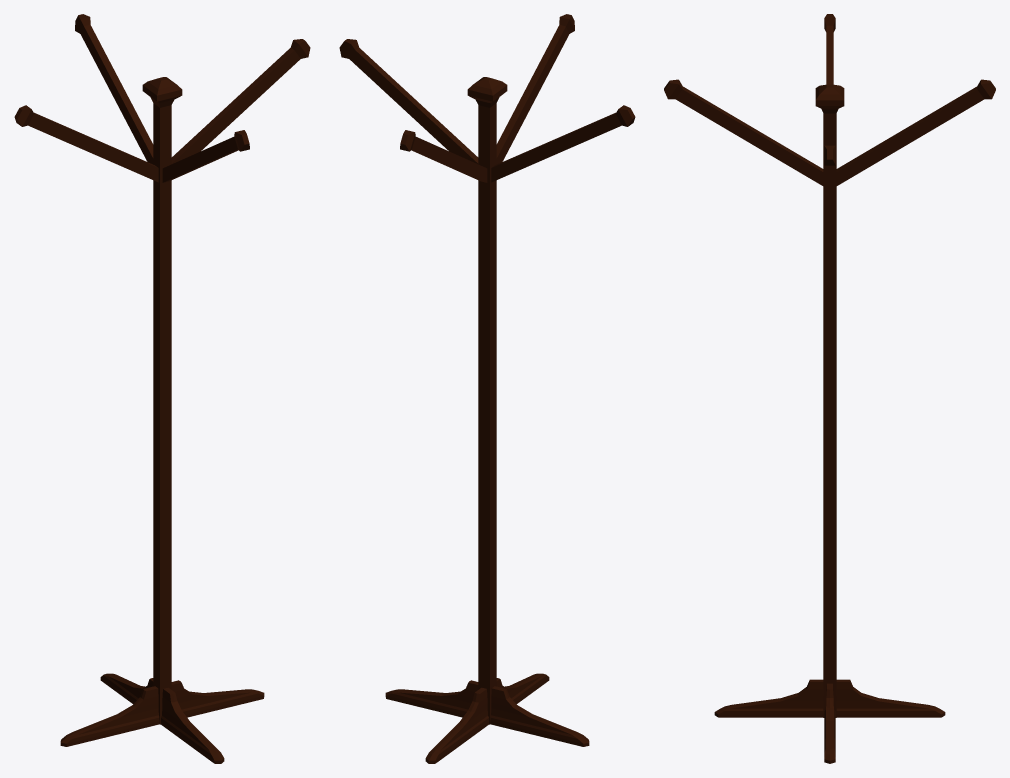
File: colorCoatRack.obj
3 views of the same model, side by side, from view 1: azimuth 30°, elevation 25°; view 2: azimuth 150°, elevation 25°; view 3: azimuth 270°, elevation 25° (orthographic). The views are drawn at different scales.
Parts seen in each view (by area): view 1: CoatRack_Cube.001; view 2: CoatRack_Cube.001; view 3: CoatRack_Cube.001.
Boxes of the visible parts, x1,y1,x2,y2 form: CoatRack_Cube.001: (14, 14, 310, 763); CoatRack_Cube.001: (339, 14, 635, 763); CoatRack_Cube.001: (664, 14, 995, 763).
Size of the model in its own units: 2.97 by 6.26 by 2.97.
